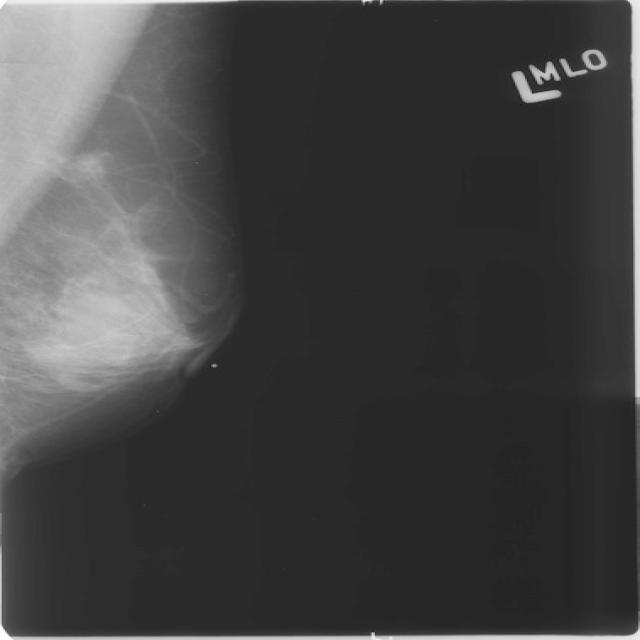tumour: (72, 152, 104, 177)
